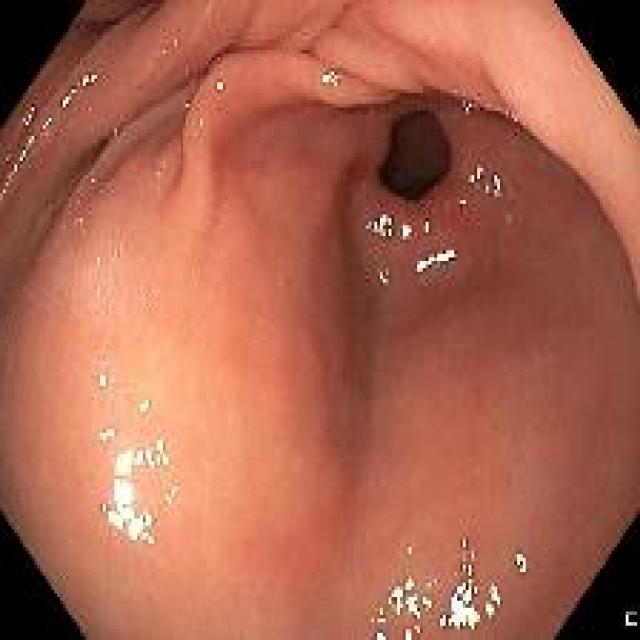bubbles: (455, 91, 479, 120), (377, 263, 394, 288), (142, 279, 157, 303), (108, 242, 122, 264), (84, 168, 97, 191), (183, 64, 197, 85), (107, 122, 123, 140), (181, 98, 193, 115), (410, 624, 424, 638), (195, 115, 205, 133), (425, 578, 435, 592)
contrast: (382, 127, 420, 195)
specularity: (99, 450, 158, 548), (369, 574, 436, 639), (439, 576, 484, 635), (466, 159, 505, 199), (134, 437, 174, 474), (362, 208, 396, 240), (413, 249, 457, 271), (483, 581, 506, 623), (454, 535, 479, 573), (89, 360, 116, 388), (15, 131, 38, 163), (318, 68, 344, 89), (17, 101, 37, 128), (510, 550, 531, 575), (56, 84, 80, 104), (377, 262, 395, 288), (165, 481, 182, 508), (211, 75, 231, 97), (4, 153, 19, 181), (96, 423, 118, 442), (458, 97, 476, 118), (399, 218, 414, 242), (77, 72, 101, 87), (378, 263, 391, 289), (422, 214, 436, 235), (39, 114, 55, 132), (138, 396, 152, 414), (403, 543, 416, 562), (457, 192, 469, 210), (195, 116, 204, 132), (183, 100, 193, 114), (120, 386, 130, 398)
